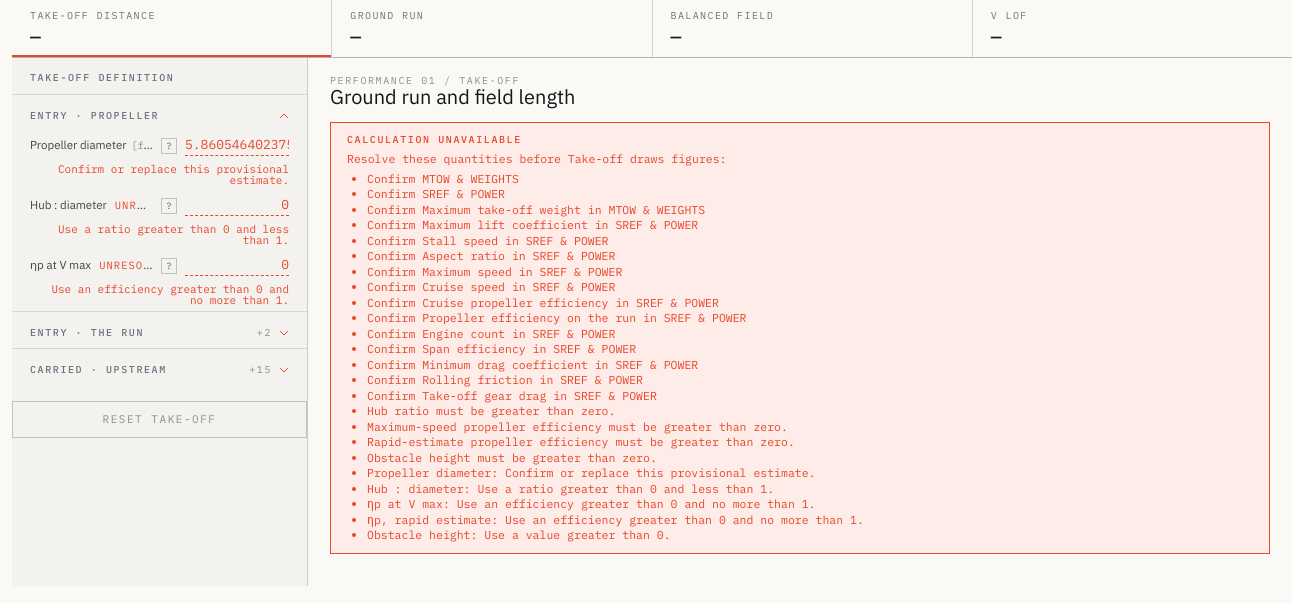
Test: TakeOff › offers a selected-engine diameter estimate as provisional
The width and height of the screenshot is (1292, 603).
Hover over the button with test id "help-to-propellerDiameterFt" at (169, 146), box [161, 138, 177, 154]
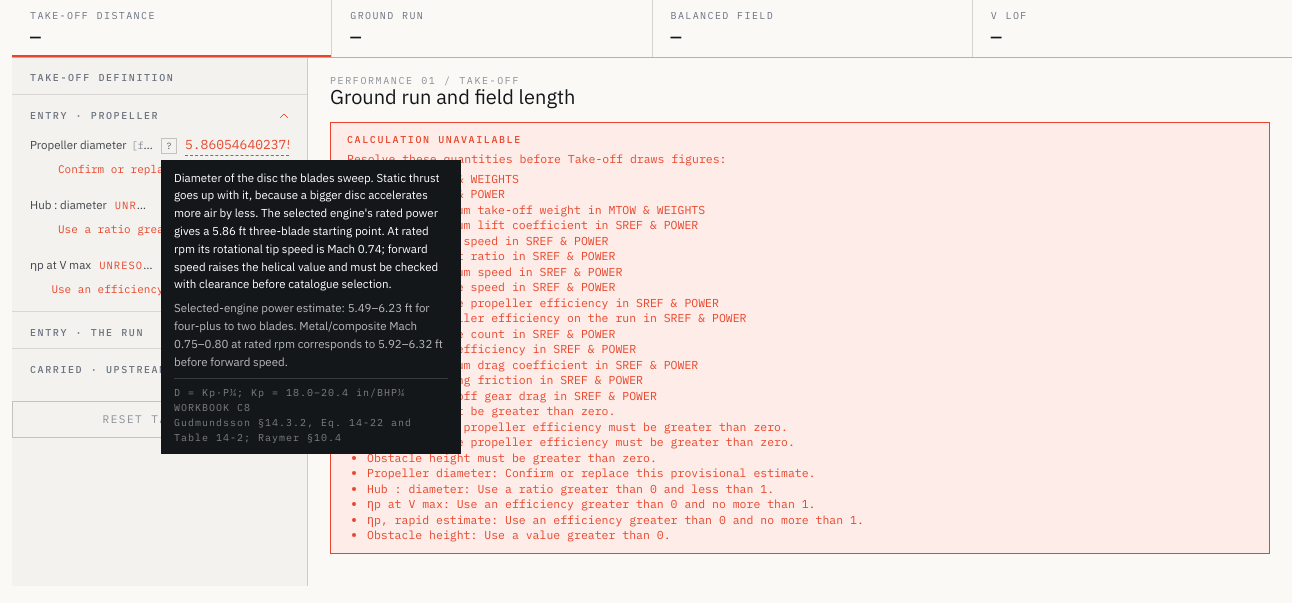
Expected: the text "5.49–6.23 ft" is shown, [174, 300, 443, 369]
Leave the field with id "to-propellerDiameterFt", box [185, 136, 289, 156]
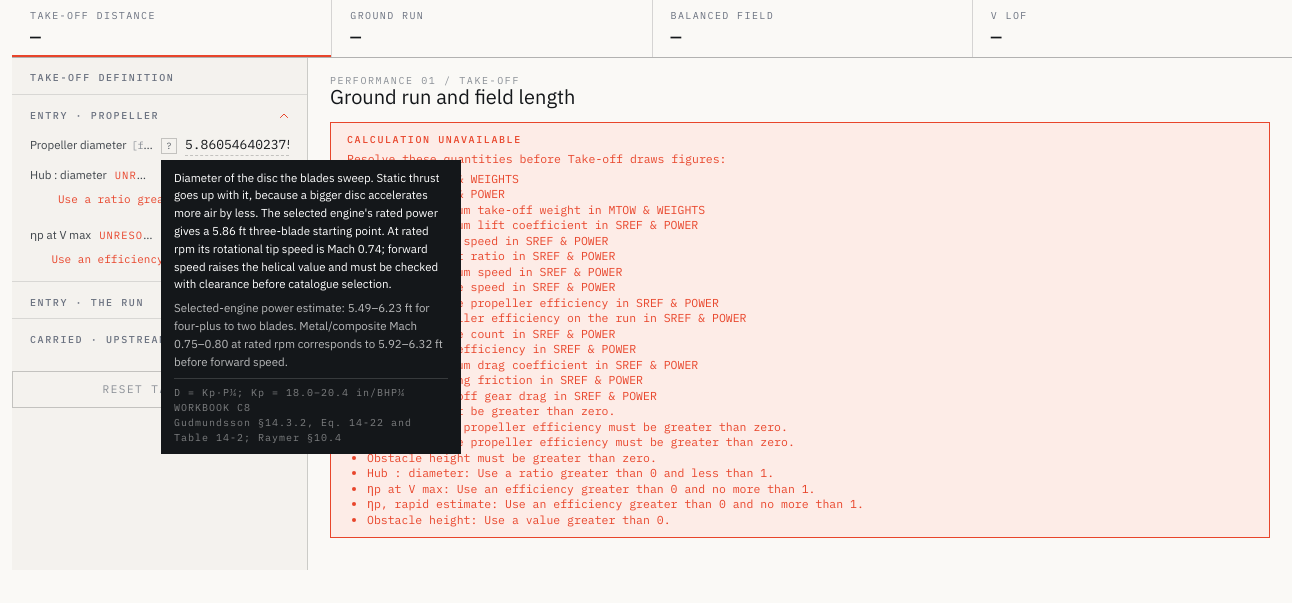
Expected: the text "provisional" is gone
